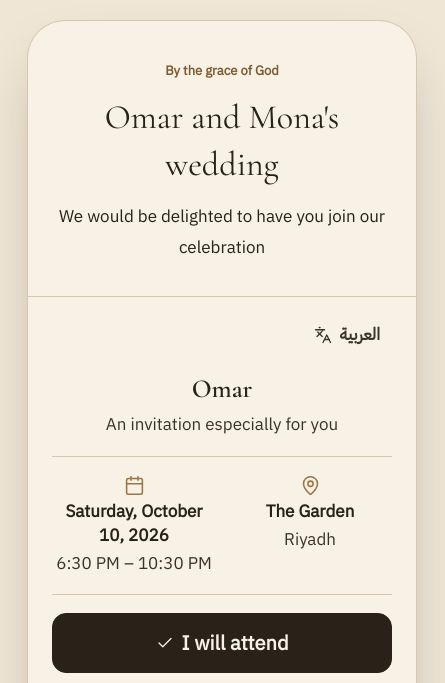
it: PublicInvitationClient › submits the named member for a single invitation and shows confirmation
Click the button "I will attend" at (222, 643), box x1=52 y1=613 x2=392 y2=673
(page scrolled)
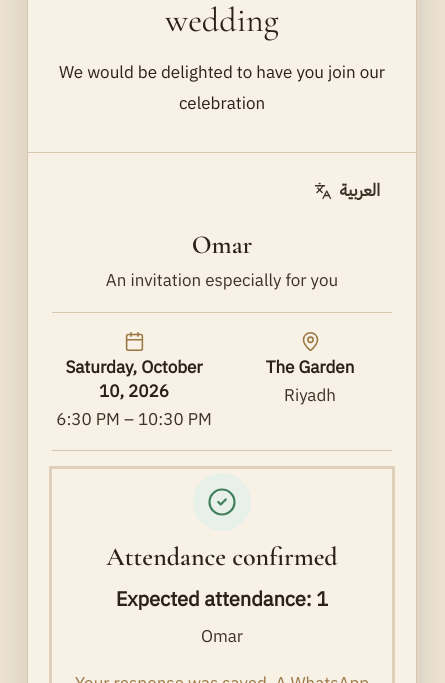
Check: the heading "Attendance confirmed" is shown, box x1=106 y1=539 x2=338 y2=575
